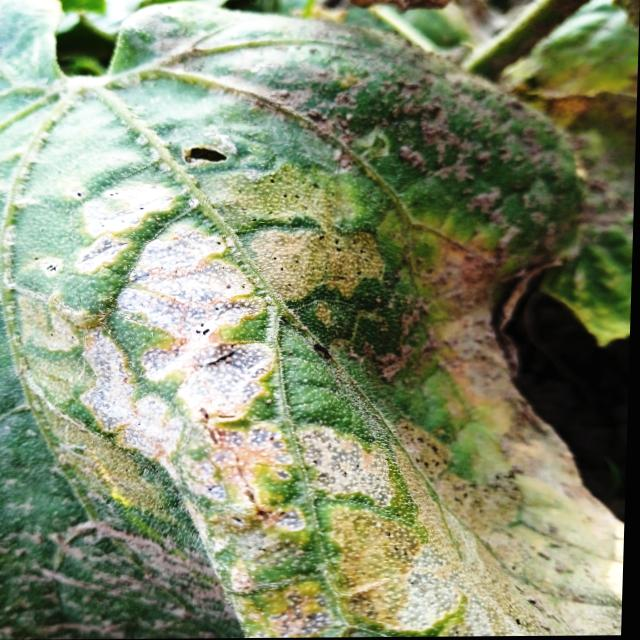Anthracnose: (169, 131, 241, 169)
